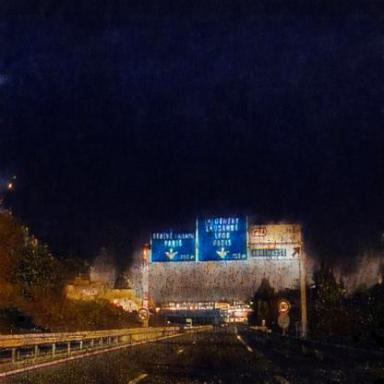Speed_limit_90: (277, 300, 289, 314)
